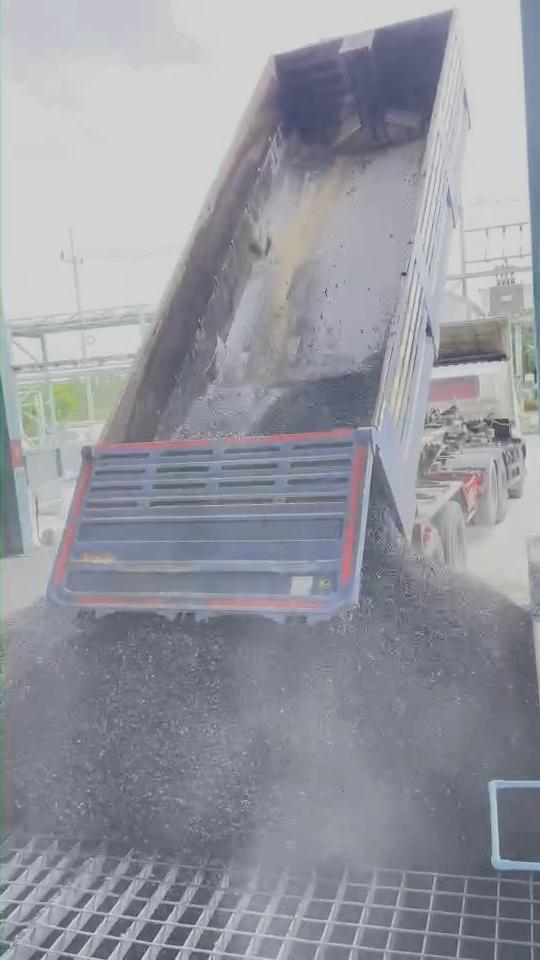gravel: (4, 553, 539, 870), (256, 361, 374, 433), (499, 787, 540, 860)
